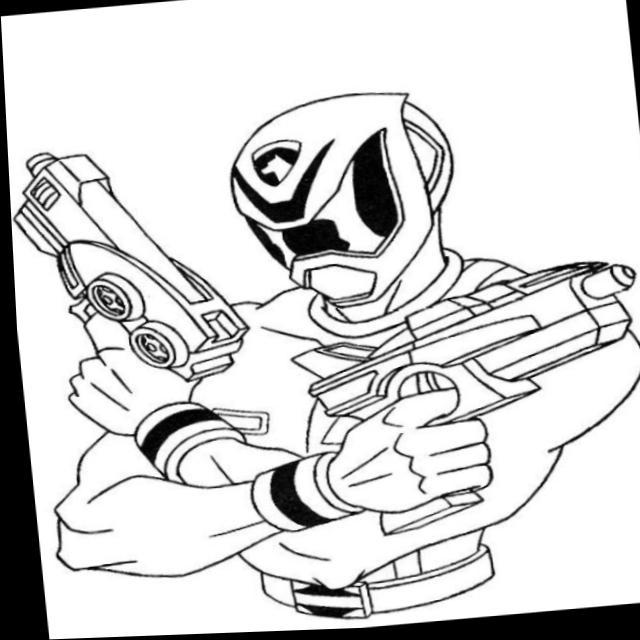weapon: (281, 236, 640, 552), (6, 135, 251, 396)
